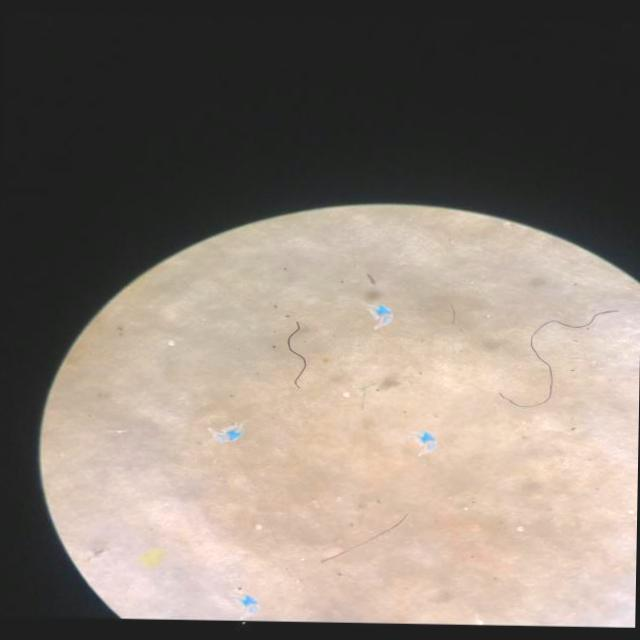fiber: (501, 311, 613, 407), (321, 516, 404, 559), (288, 322, 305, 387)
film: (215, 425, 241, 441), (372, 304, 390, 323), (417, 431, 433, 450), (240, 594, 256, 610)
fragment: (141, 549, 162, 564)
pellet: (167, 338, 174, 345), (254, 524, 261, 530), (516, 525, 522, 531), (344, 392, 348, 395)
